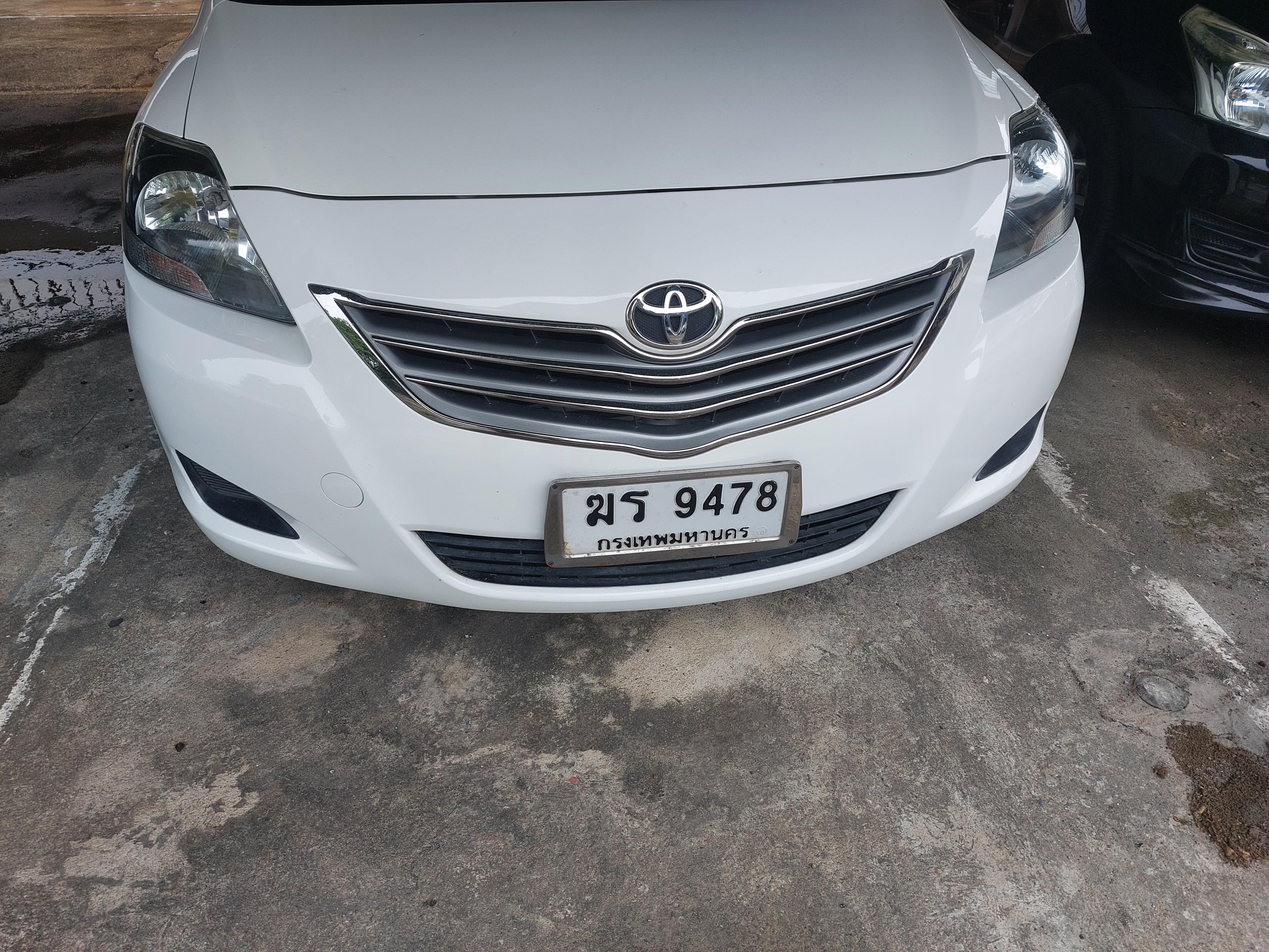license-plate: (542, 457, 806, 573)
